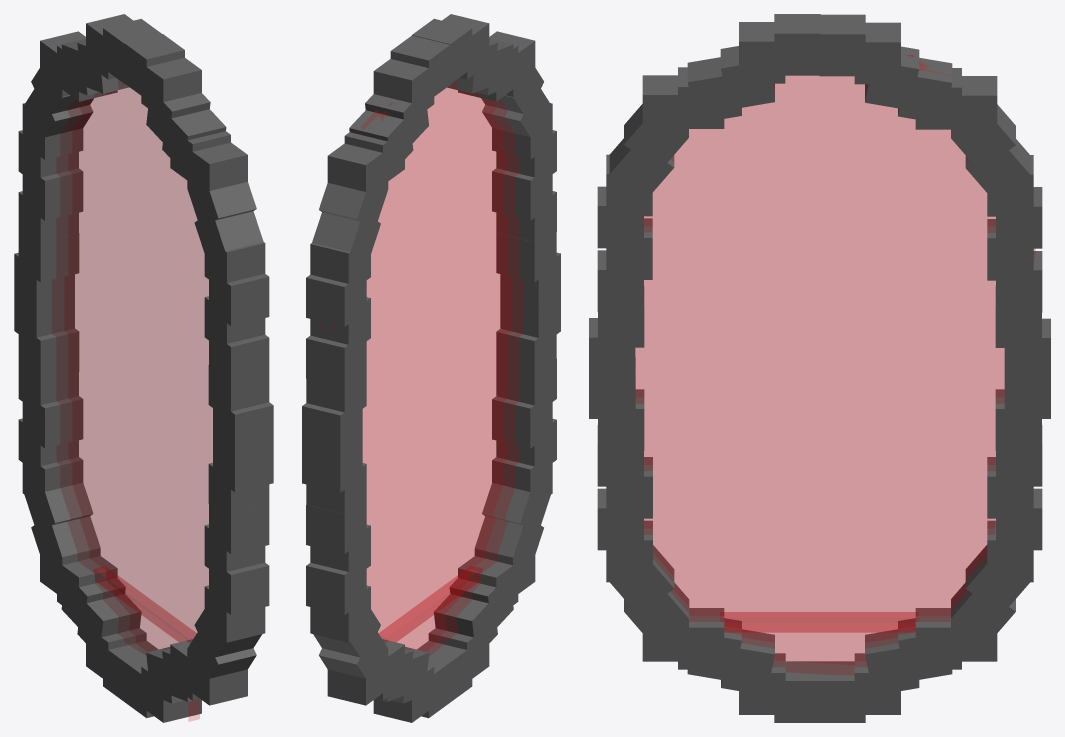
The model's file is Portal B 4.fbx.
The picture shows the model from 3 angles, left to right: view 1: azimuth 30°, elevation 25°; view 2: azimuth 150°, elevation 25°; view 3: azimuth 270°, elevation 25°; orthographic projection. The views are drawn at different scales.
Parts seen in each view (by area): view 1: Cube.002, Cube; view 2: Cube.002, Cube; view 3: Cube, Cube.002.
Boxes of the visible parts, <box> form: Cube.002: <box>14,14,273,722</box>; Cube: <box>52,80,212,720</box>; Cube.002: <box>302,14,560,722</box>; Cube: <box>320,80,522,656</box>; Cube: <box>635,55,1035,674</box>; Cube.002: <box>589,14,1050,722</box>.
Size of the model in its own units: 200 by 3278 by 1990.
